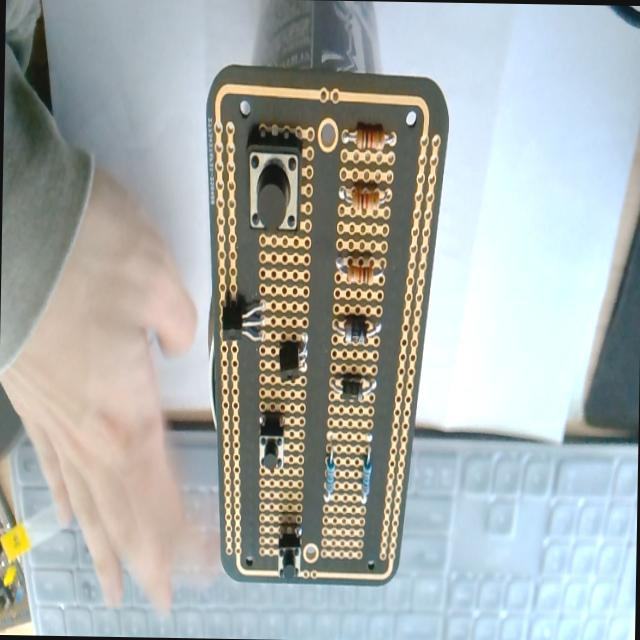diode: (333, 316, 381, 343), (330, 374, 376, 402)
resistor: (339, 186, 389, 216), (342, 124, 394, 152), (336, 253, 384, 280), (322, 452, 336, 503), (360, 451, 372, 505)
switch: (245, 132, 302, 234), (258, 414, 285, 472), (276, 528, 302, 580)
transistor: (220, 297, 268, 344), (268, 332, 310, 378)
